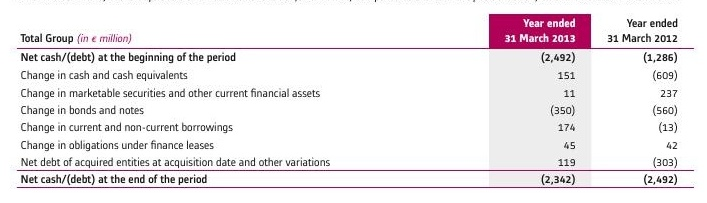table: (0, 0, 707, 203)
